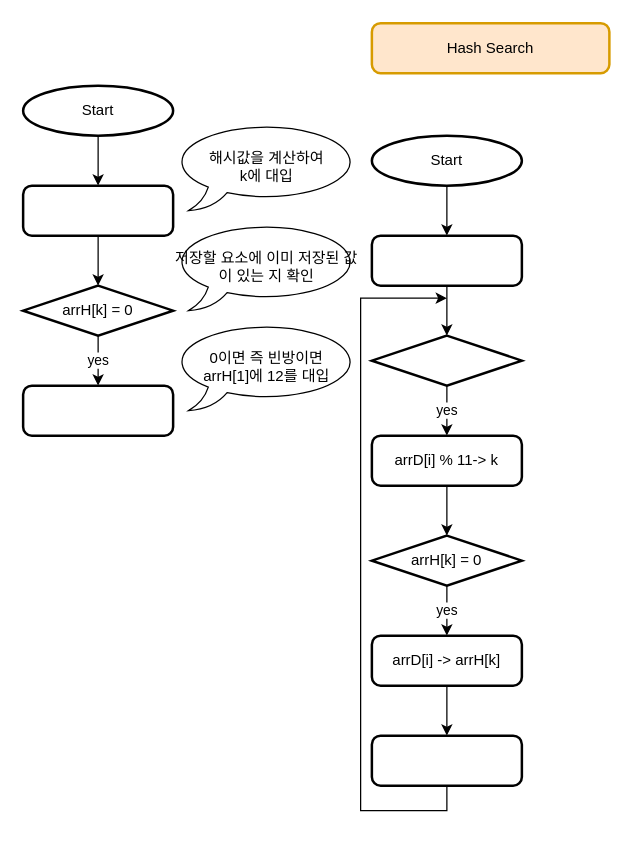
This 631x843 diagram has some shape labels left out. Here are the shapes that lost their labels. From the top down, the box of each, then its label:
(21, 184, 174, 236): arrD[0] % 11-> k
(370, 234, 522, 286): i = 0
(370, 334, 522, 386): i < len(arrD)
(21, 384, 174, 436): arrD[0] -> arrH[k]
(370, 734, 522, 786): i = i +1
